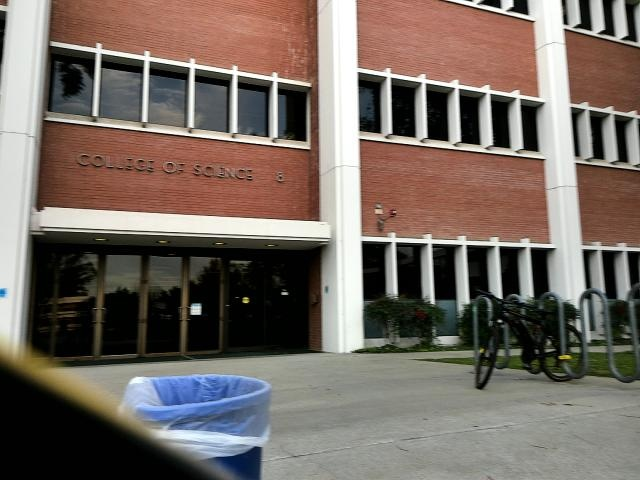trashcan_open: (125, 374, 271, 480)
